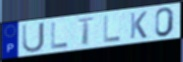0: (154, 7, 176, 38)
K: (130, 10, 149, 40)
L: (102, 14, 122, 45), (50, 21, 70, 51)
T: (75, 16, 97, 47)
U: (21, 21, 46, 54)
